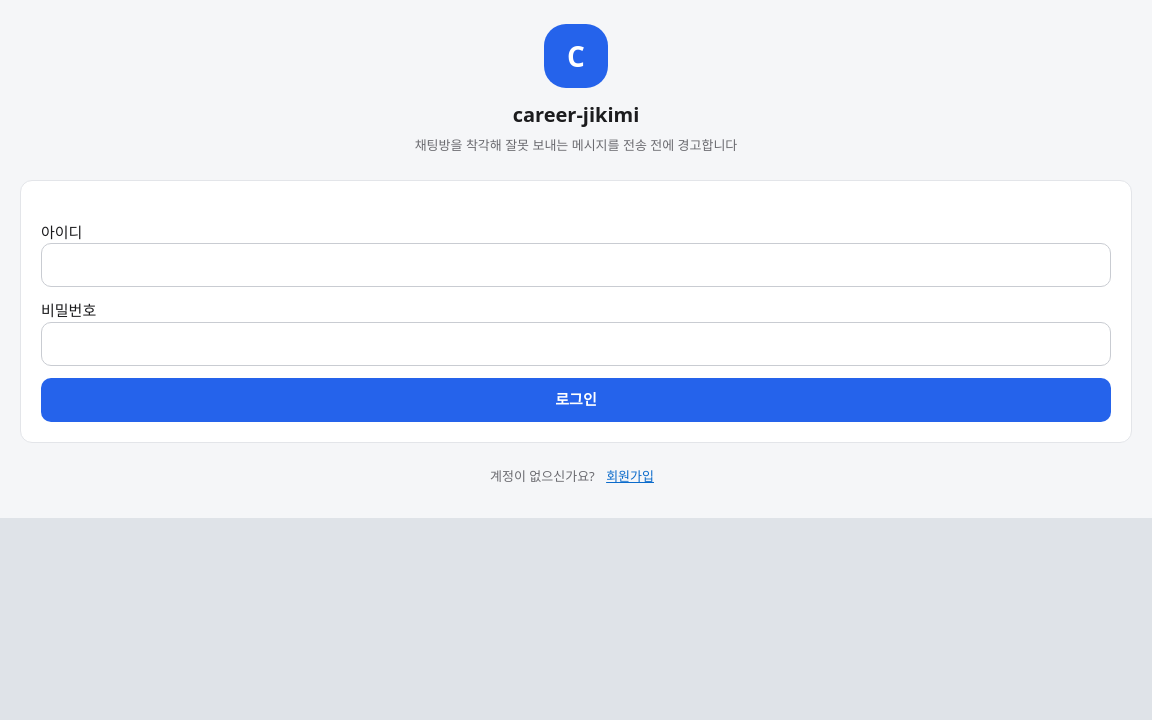
Test case: AuthView 로그인 › 401 문구를 서버 응답 그대로 보여준다
This screenshot has width=1152, height=720.
Type "alice" into the field labelled "아이디" at (576, 265), box [41,243,1111,287]
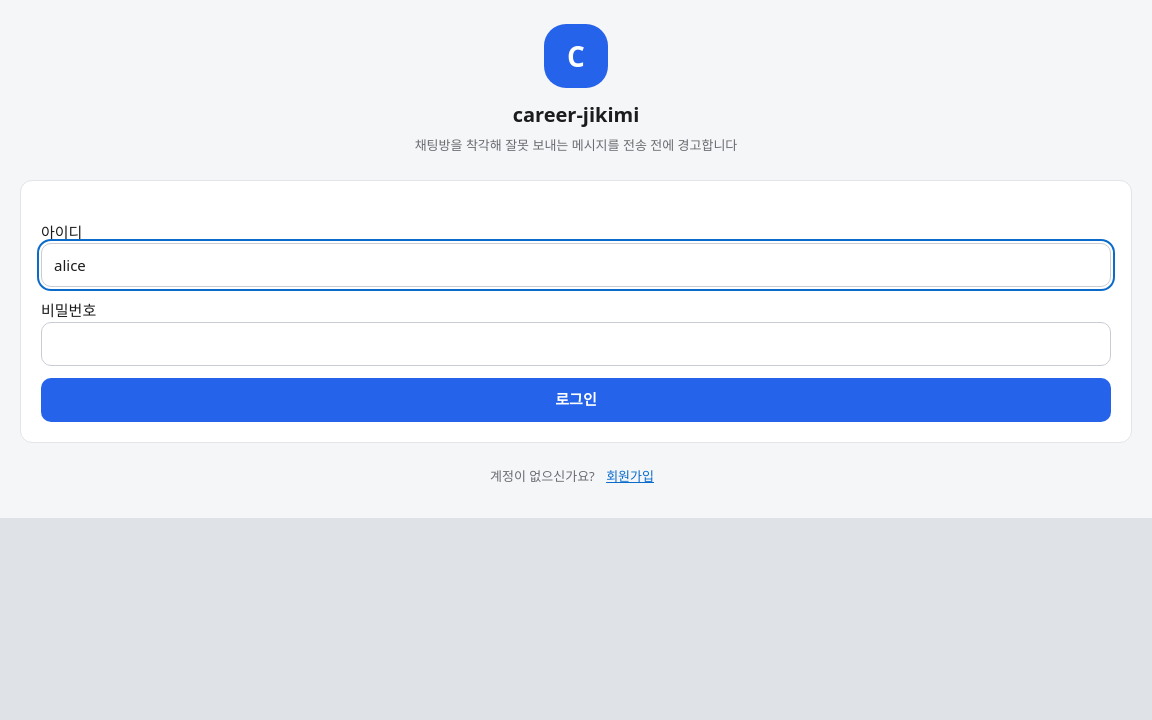
Type "wrong-password" into the password field labelled "비밀번호" at (576, 344), box [41,322,1111,366]
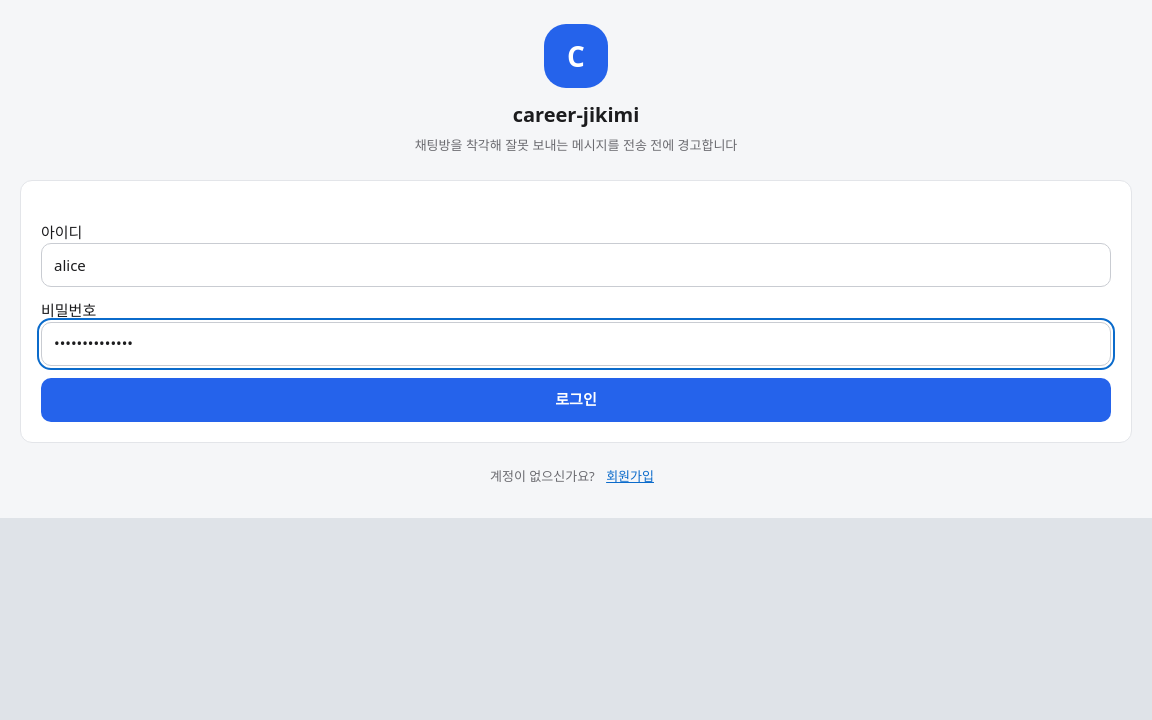
Click the button with test id "auth-login-submit" at (576, 400), box [41,378,1111,422]
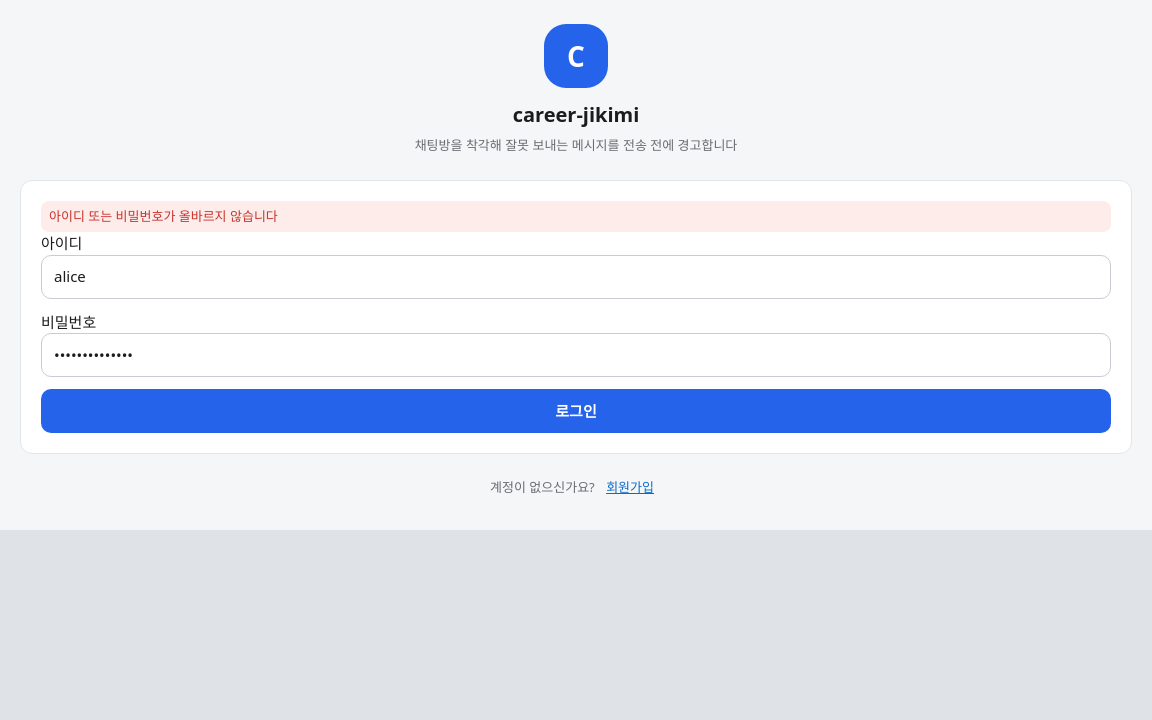
Check: the text with test id "auth-error" reads "아이디 또는 비밀번호가 올바르지 않습니다", box [49,206,278,224]
